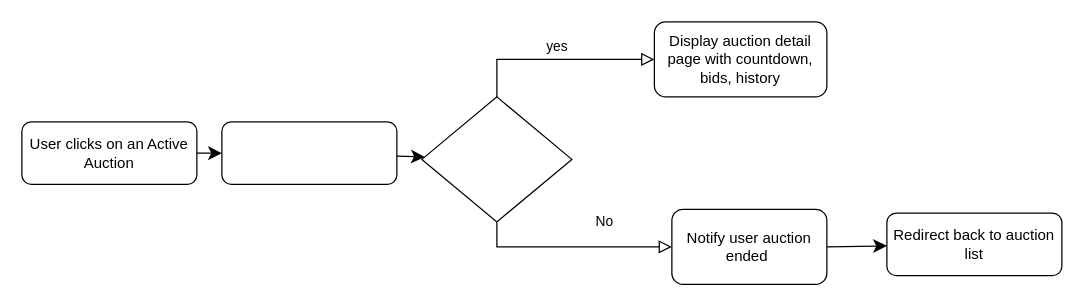
The diagram is 1084 pixels wide and 306 high, and some of its shapes have lost their labels. The shapes that lost their labels are listed below. From the top down, each one's centre as x and y in pixels, then its label:
At pixel 309 152: "System retrieves auction detail from database".
At pixel 496 159: "Is auction still active?".
